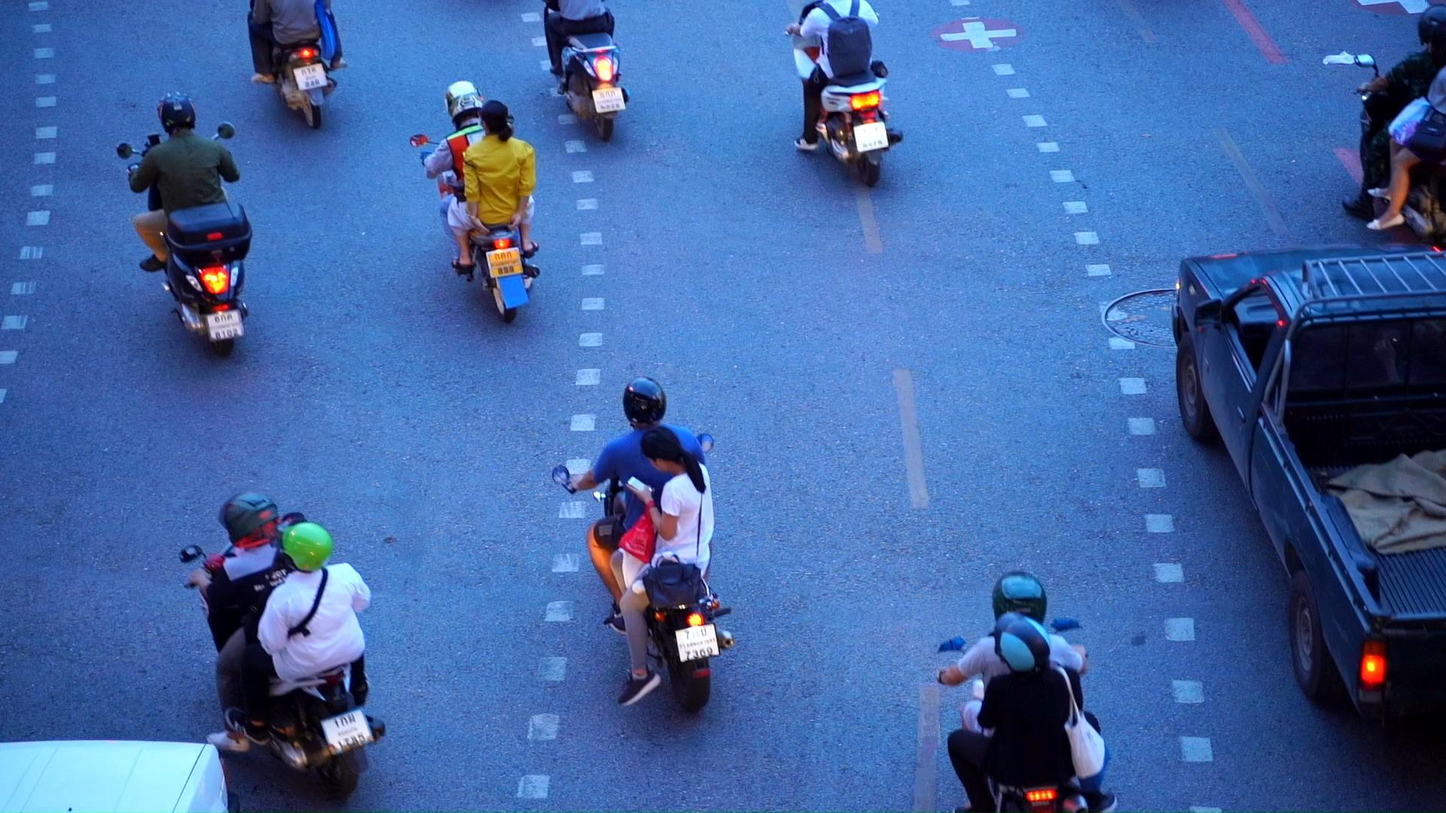driver: (176, 491, 387, 803), (550, 375, 734, 714), (933, 572, 1119, 813), (116, 91, 253, 358), (410, 81, 540, 324), (1340, 5, 1446, 245), (783, 0, 903, 187), (247, 0, 348, 128), (541, 0, 630, 143)
helmet: (994, 611, 1053, 675), (269, 516, 333, 574), (218, 491, 280, 548), (992, 572, 1047, 625), (623, 376, 666, 429), (445, 81, 483, 127), (156, 91, 196, 133), (1418, 5, 1446, 46)
no-helmet: (640, 426, 704, 475), (476, 100, 513, 143), (1427, 25, 1446, 70)
